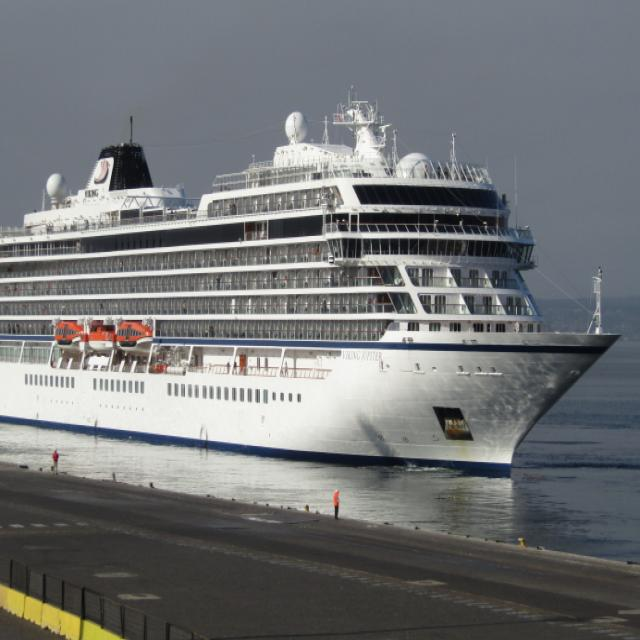cruises: (1, 87, 624, 486)
